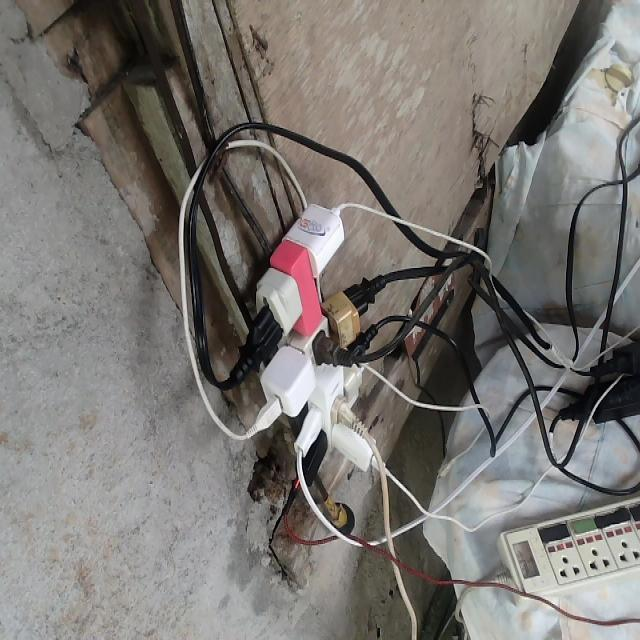-: (220, 196, 392, 507)
